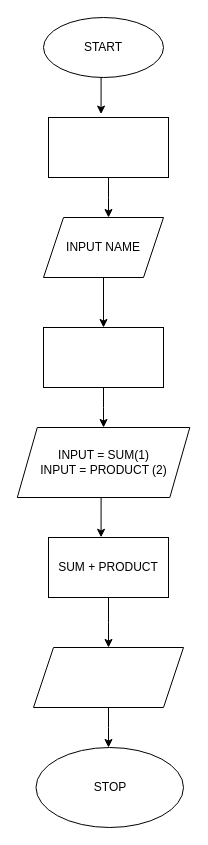
Some shapes in this 208 by 845 pixel diagram are drawn without their labels. Here are the shapes that lost their labels. From the top down, the centre of each, then its label:
point 108,147: HELLO WORLD
point 103,357: HELLO "NAME"
point 108,677: OUTPUT/ANSWER
